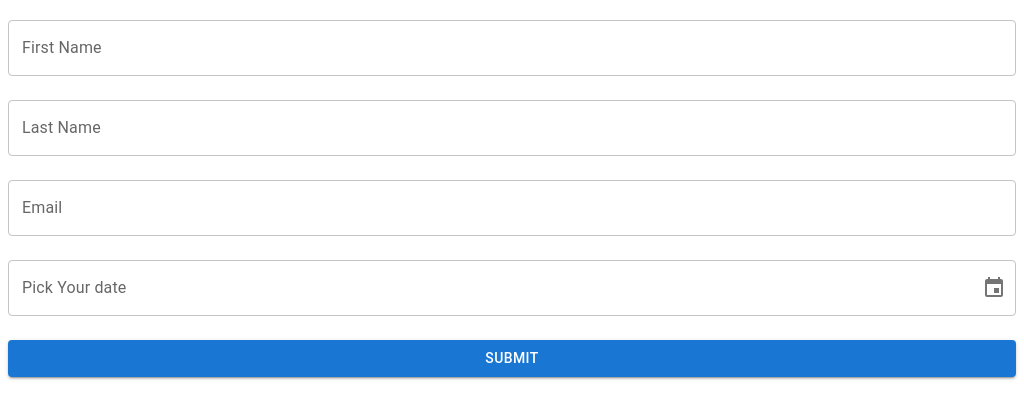
it: Test Inputs and validations › test filling inputs with correct data
Type "Cregan" into the field labelled "First Name" at (512,48), box [8,20,1016,76]
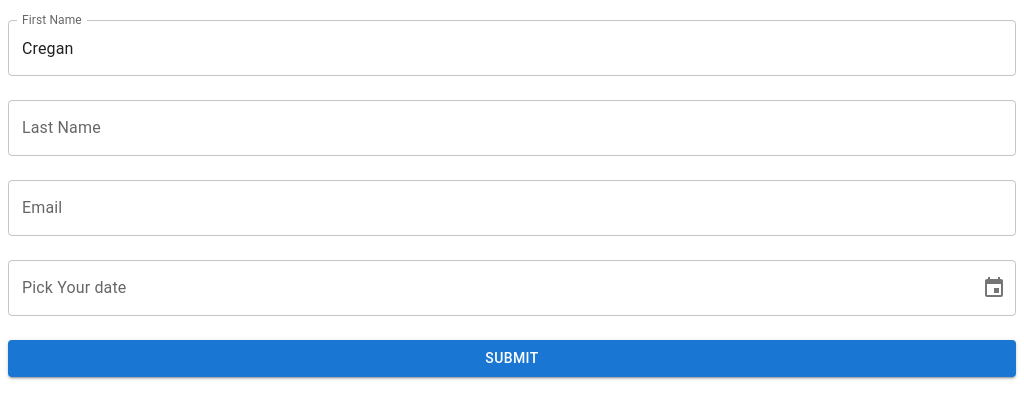
Type "Stark" into the field labelled "Last Name" at (512,128), box [8,100,1016,156]
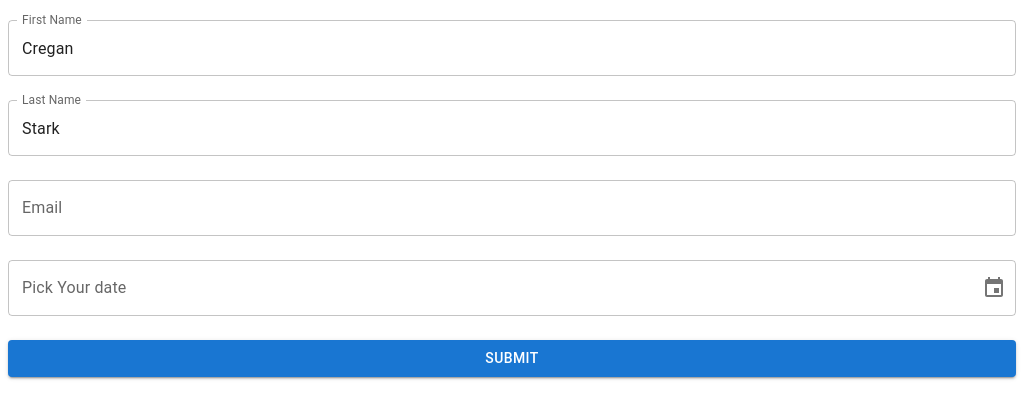
Type "Cregan@Stark.north" into the field labelled "Email" at (512,208), box [8,180,1016,236]
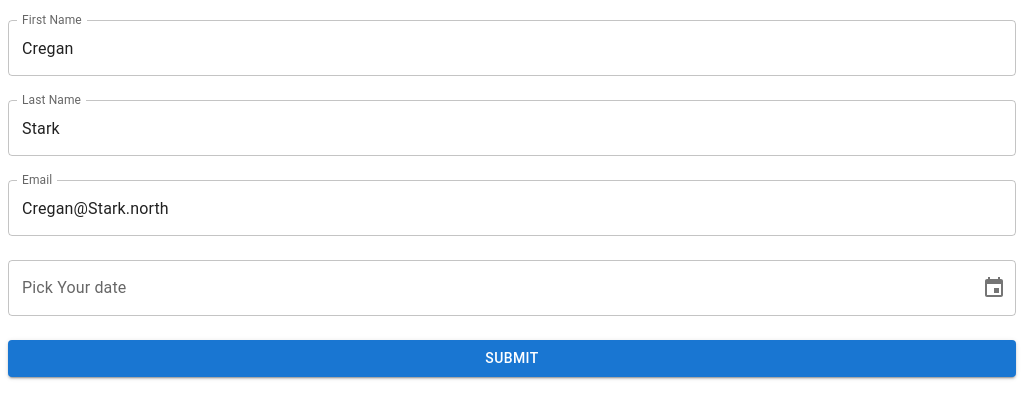
Type "2024-05-24" into the field labelled "Pick Your date" at (487,288), box [8,260,966,316]
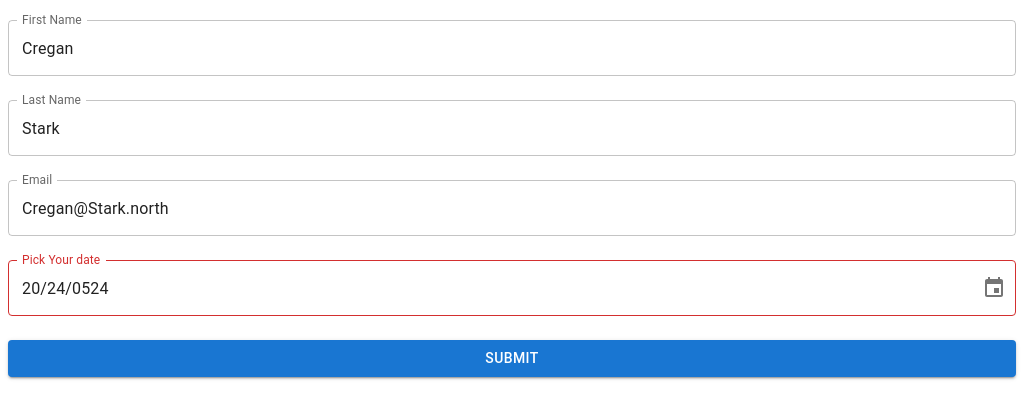
Expected: the field labelled "Pick Your date" holds "20/24/0524", [8,260,966,316]
